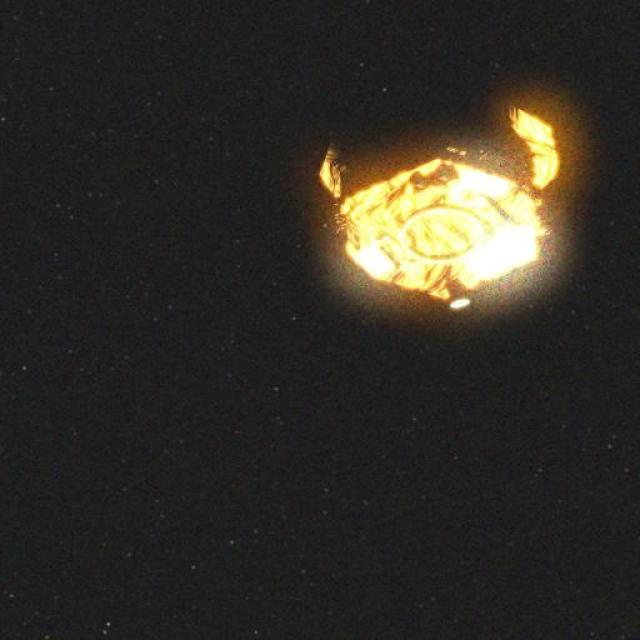lisa_pathfinder: (290, 84, 587, 319)
